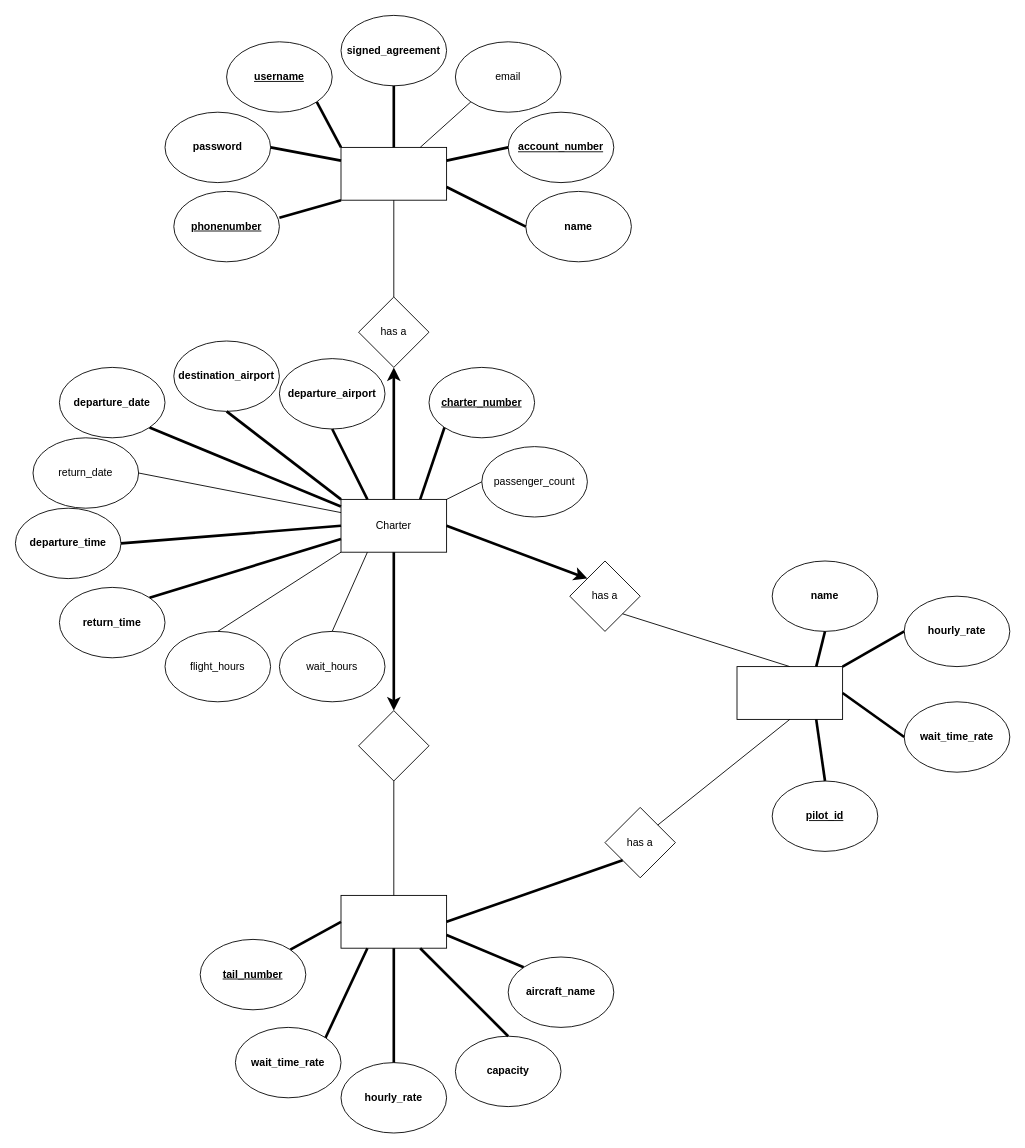
This 1025x1148 diagram has some shape labels left out. The centre of each missing label's shape, as x and y in pixels:
"Aircraft" goes at point 393,921.
"Customer" goes at point 393,173.
"has a/an" goes at point 393,745.
"Pilot" goes at point 789,692.
